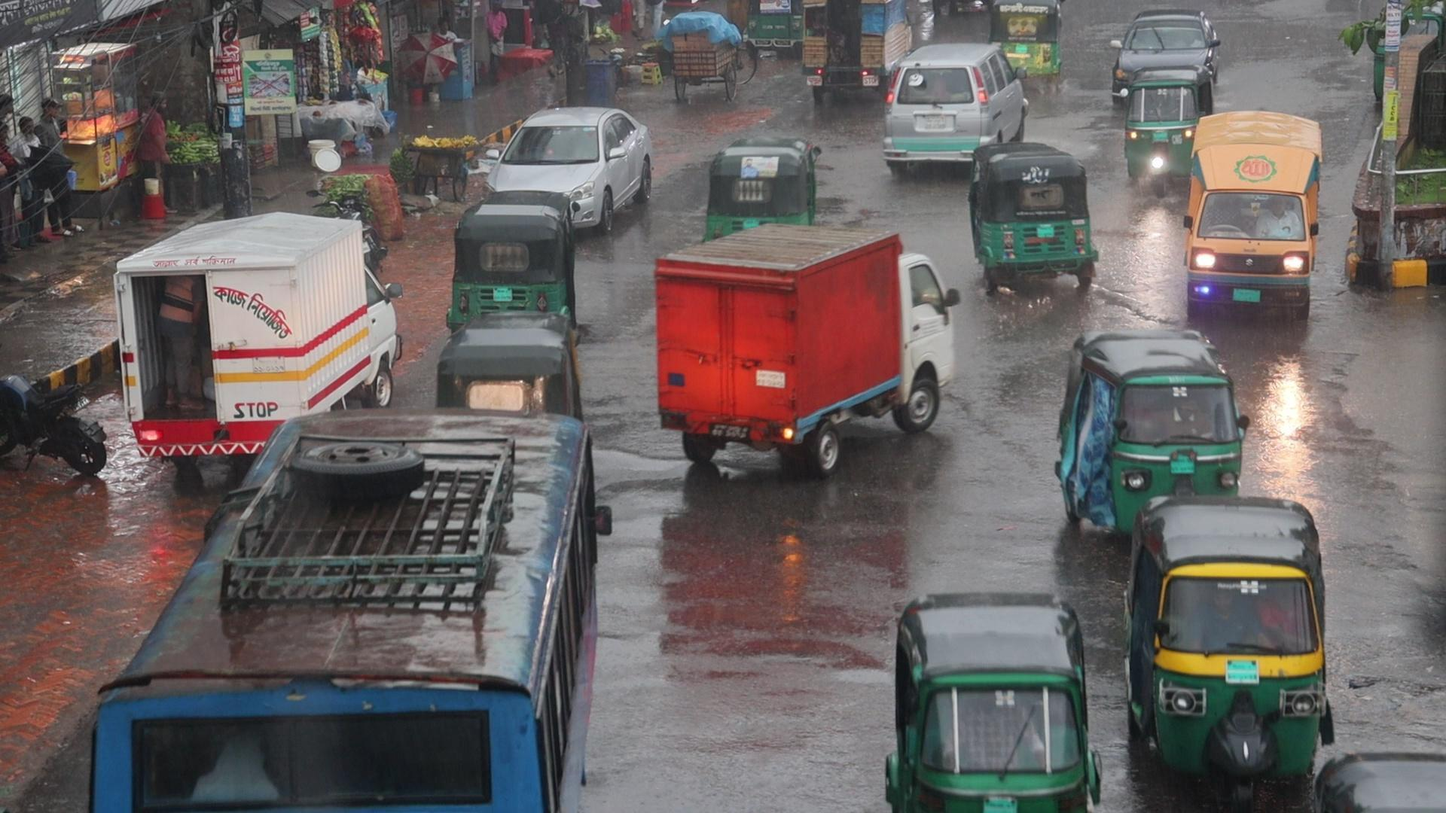Bus: (81, 396, 616, 813)
Car: (878, 39, 1030, 158)
Truck: (648, 218, 962, 483), (1180, 106, 1322, 329)
